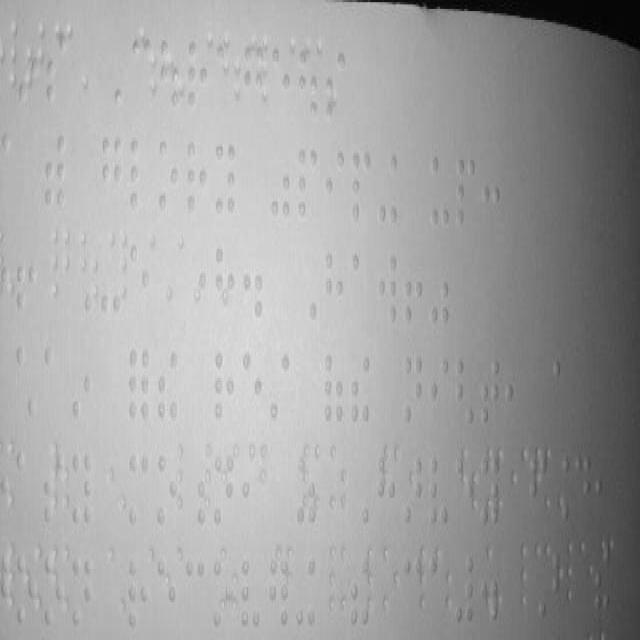braiile: (99, 132, 127, 224), (295, 140, 323, 229), (349, 144, 375, 233), (128, 134, 154, 222), (70, 551, 98, 631), (324, 144, 348, 233), (238, 549, 262, 638), (130, 30, 154, 117), (428, 352, 452, 439), (159, 140, 185, 220), (270, 46, 294, 128), (71, 448, 95, 530), (128, 557, 152, 639), (46, 31, 70, 111), (429, 154, 453, 234), (214, 140, 238, 220), (42, 342, 66, 422), (404, 350, 426, 437), (454, 152, 478, 230), (128, 241, 152, 319), (183, 554, 207, 632), (187, 140, 210, 220), (215, 346, 238, 426), (324, 250, 346, 332), (15, 446, 37, 528), (187, 40, 209, 120), (351, 249, 373, 329), (378, 251, 400, 331), (242, 346, 264, 426), (572, 446, 594, 526), (128, 454, 150, 532), (428, 454, 450, 532), (242, 42, 262, 126), (480, 356, 502, 432), (402, 558, 424, 634), (552, 351, 572, 431), (429, 556, 448, 632), (157, 451, 177, 522)
